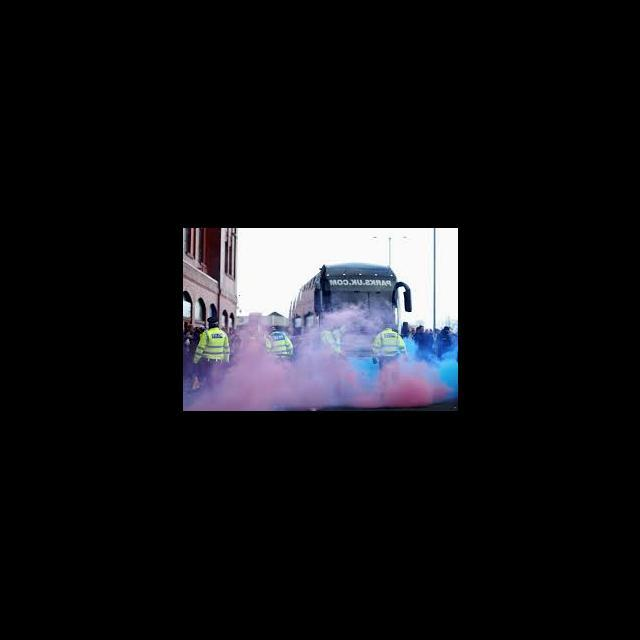Smoke: (234, 345, 456, 404)
